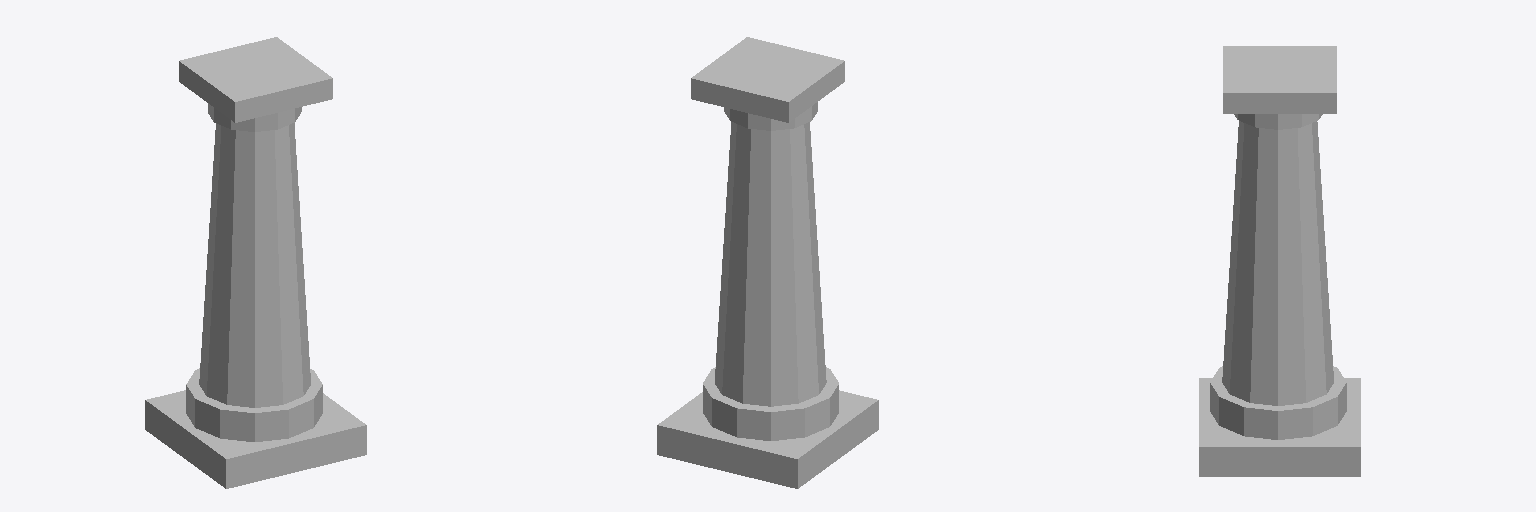
File: col_1.obj
The picture shows the model from 3 angles: view 1: azimuth 30°, elevation 25°; view 2: azimuth 150°, elevation 25°; view 3: azimuth 270°, elevation 25°; orthographic projection.
Parts seen in each view (by area): view 1: column.001_Cylinder.007; view 2: column.001_Cylinder.007; view 3: column.001_Cylinder.007.
Part boxes in pixels (x1,y1,x2,y2): column.001_Cylinder.007: (145,37,366,488); column.001_Cylinder.007: (657,37,878,488); column.001_Cylinder.007: (1199,46,1360,476).
Bounding box in the file's own units: 5.6 × 14.24 × 5.6.